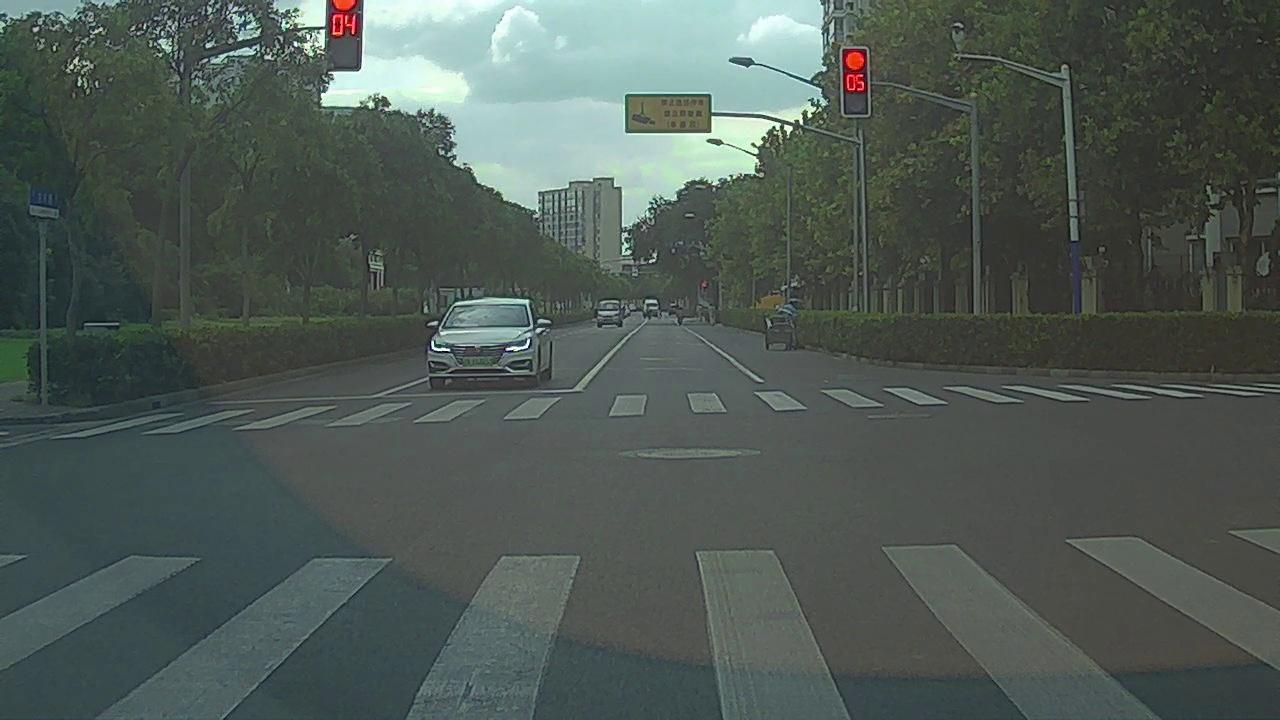traffic_light: (327, 1, 361, 70), (841, 47, 869, 117)
